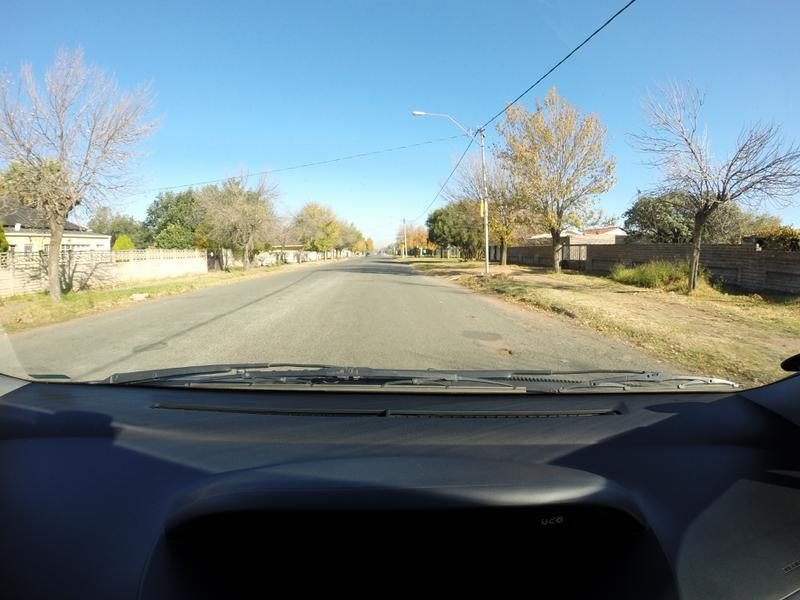pothole: (491, 343, 517, 354)
